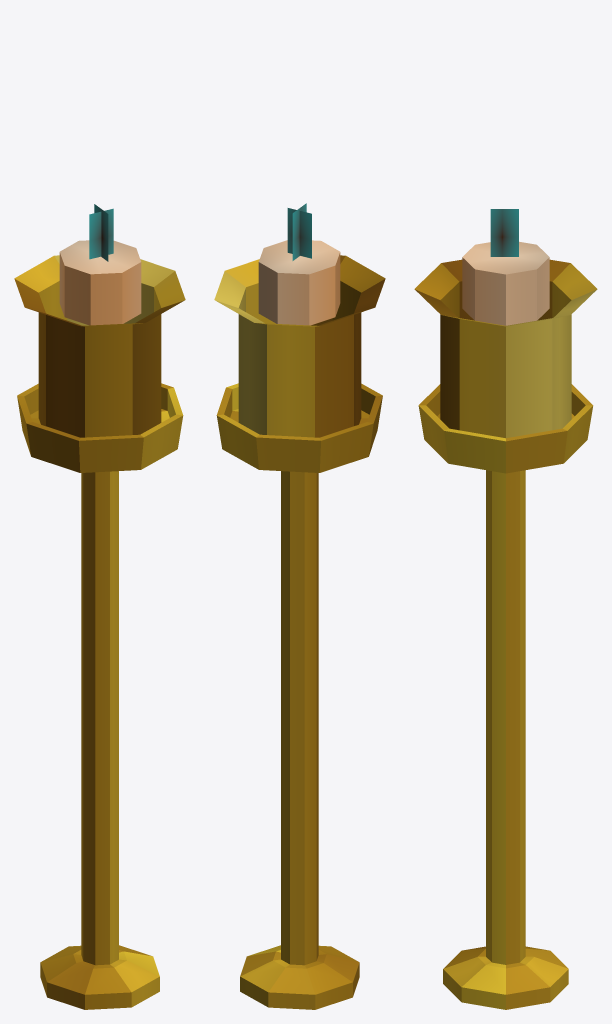
File: Candle_336x12.obj
3 renders of one model, left to right at view 1: azimuth 30°, elevation 25°; view 2: azimuth 150°, elevation 25°; view 3: azimuth 270°, elevation 25°, orthographic.
Visible parts, largest first — view 1: Candle_336x12; view 2: Candle_336x12; view 3: Candle_336x12.
Part boxes in pixels (bbox=[...]): Candle_336x12: bbox=[14, 204, 185, 1009]; Candle_336x12: bbox=[214, 203, 385, 1009]; Candle_336x12: bbox=[414, 209, 597, 1009].
Bounding box in the file's own units: 0.3802 × 2.29 × 0.401.
